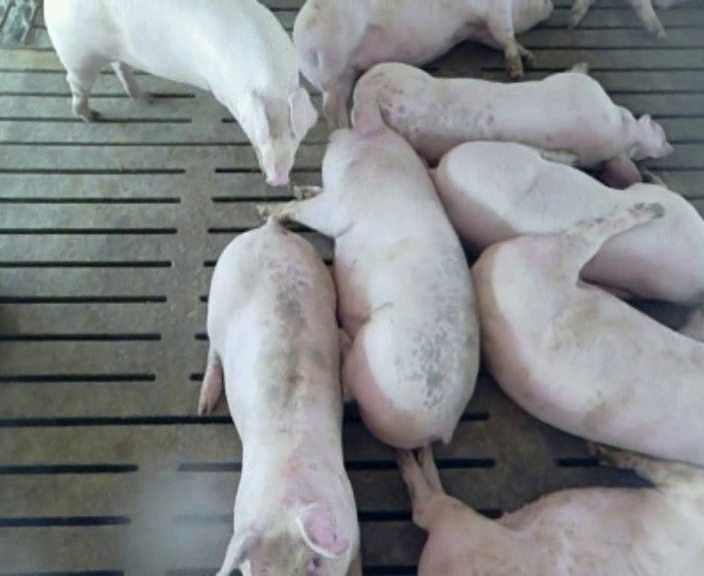pig: (255, 92, 478, 449), (472, 204, 703, 465), (198, 217, 358, 575), (44, 2, 316, 185), (432, 141, 703, 303), (397, 441, 703, 574), (354, 63, 672, 187), (293, 2, 551, 129)
